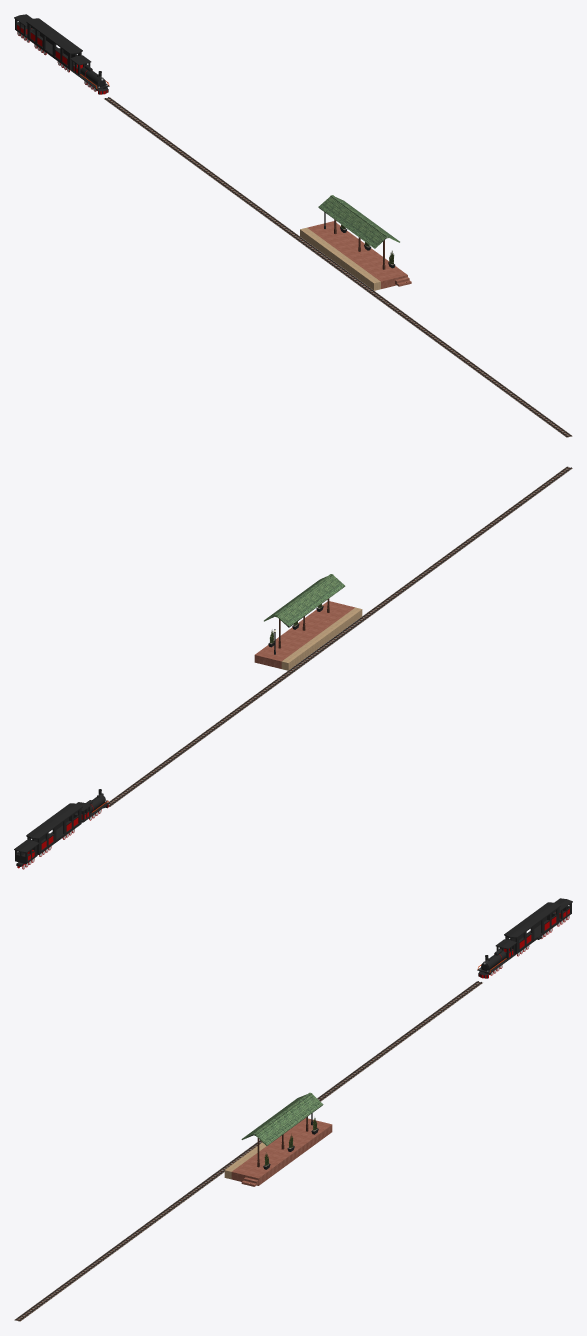
The model's file is Lieu, Eva - Ocean Platform.glb.
The picture shows the model from 3 angles, top to bottom: view 1: azimuth 30°, elevation 25°; view 2: azimuth 150°, elevation 25°; view 3: azimuth 330°, elevation 25°; orthographic projection.
Parts seen in each view (by area): view 1: Platform, Train Tracks, Train, Platform Roof; view 2: Platform, Train Tracks, Train, Platform Roof; view 3: Platform, Train Tracks, Train, Platform Roof.
Boxes of the visible parts, x1,y1,x2,y2 form: Platform: [300, 221, 411, 290]; Train Tracks: [104, 97, 572, 437]; Train: [14, 14, 109, 94]; Platform Roof: [318, 195, 399, 269]; Platform: [254, 601, 362, 670]; Train Tracks: [108, 466, 572, 806]; Train: [14, 789, 109, 866]; Platform Roof: [264, 574, 345, 648]; Platform: [224, 1118, 332, 1186]; Train Tracks: [14, 981, 482, 1321]; Train: [477, 898, 572, 978]; Platform Roof: [241, 1092, 323, 1167].
Size of the model in its own units: 4.34 by 3.83 by 88.34.
13 materials, 6 textured.
